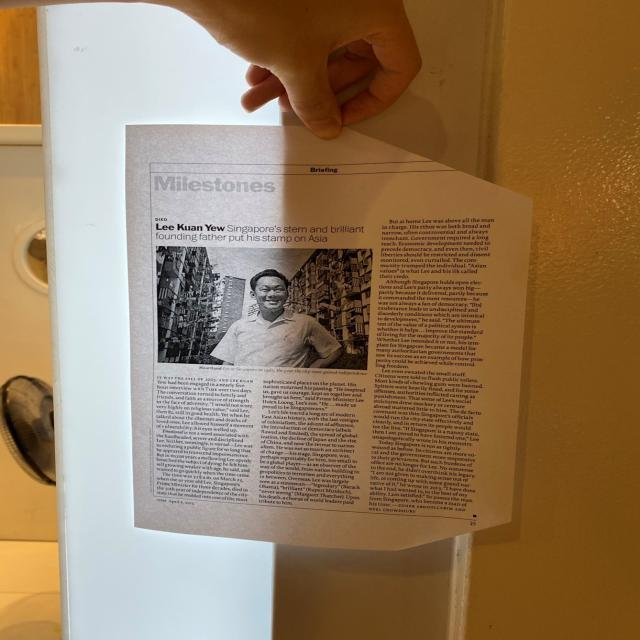document: (127, 125, 532, 550)
